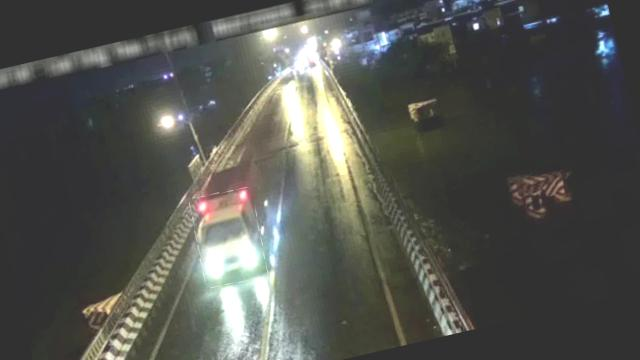Truck: (187, 186, 270, 290)
